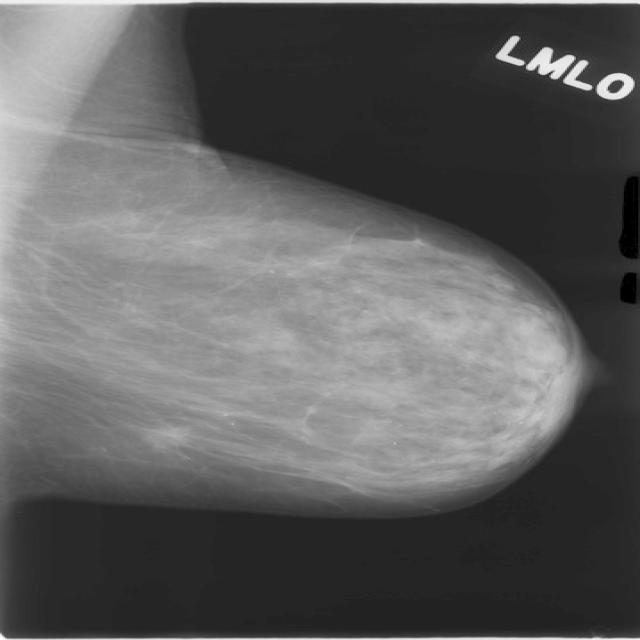tumour: (137, 423, 191, 450)
